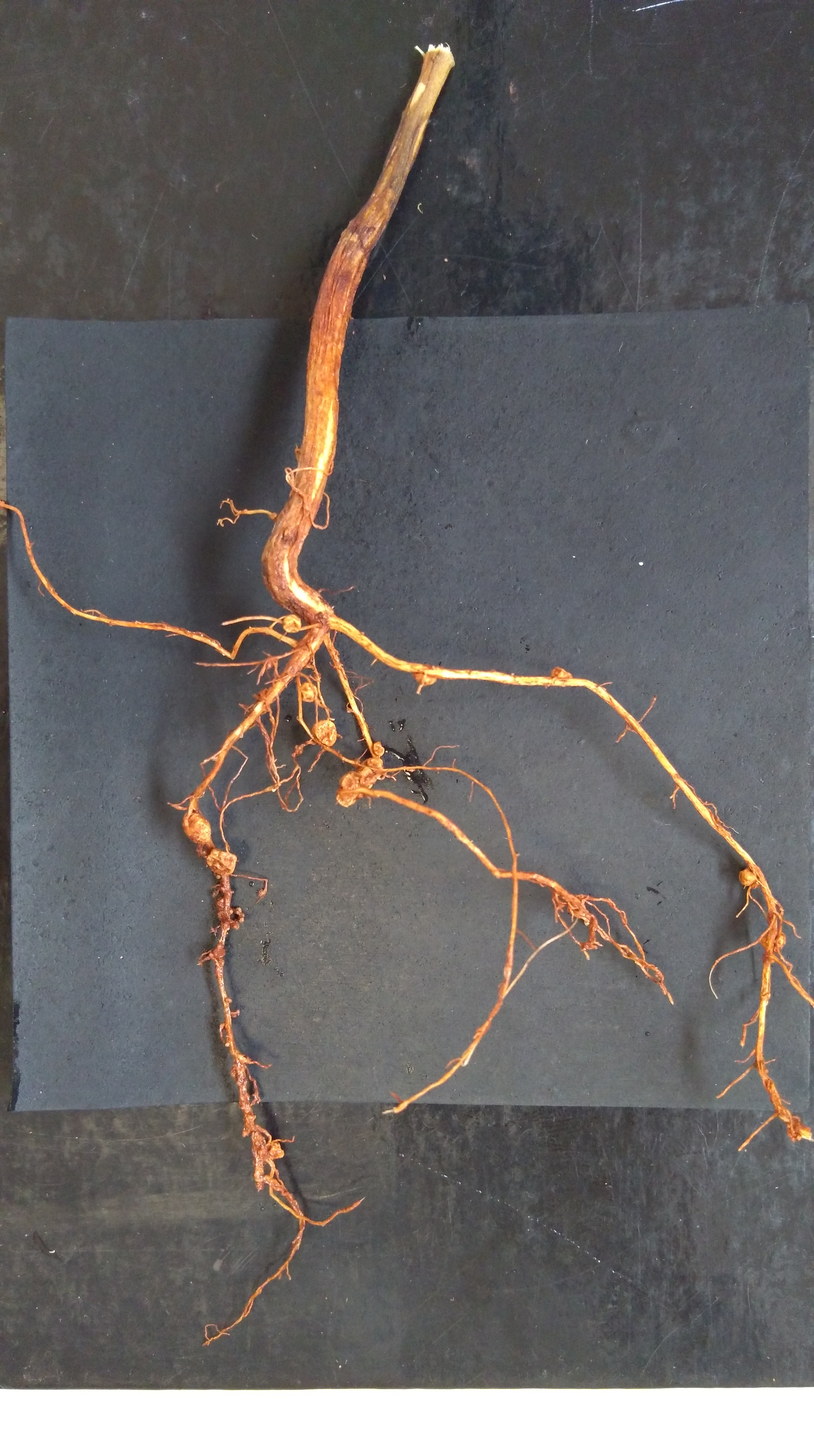nodule: (178, 809, 212, 846), (334, 767, 363, 810), (356, 754, 385, 795), (203, 847, 238, 878), (310, 717, 339, 750), (410, 668, 441, 689), (736, 864, 760, 888), (280, 612, 305, 635), (299, 680, 319, 705), (267, 1140, 287, 1161), (550, 665, 574, 680), (371, 739, 385, 758), (773, 932, 788, 949)
